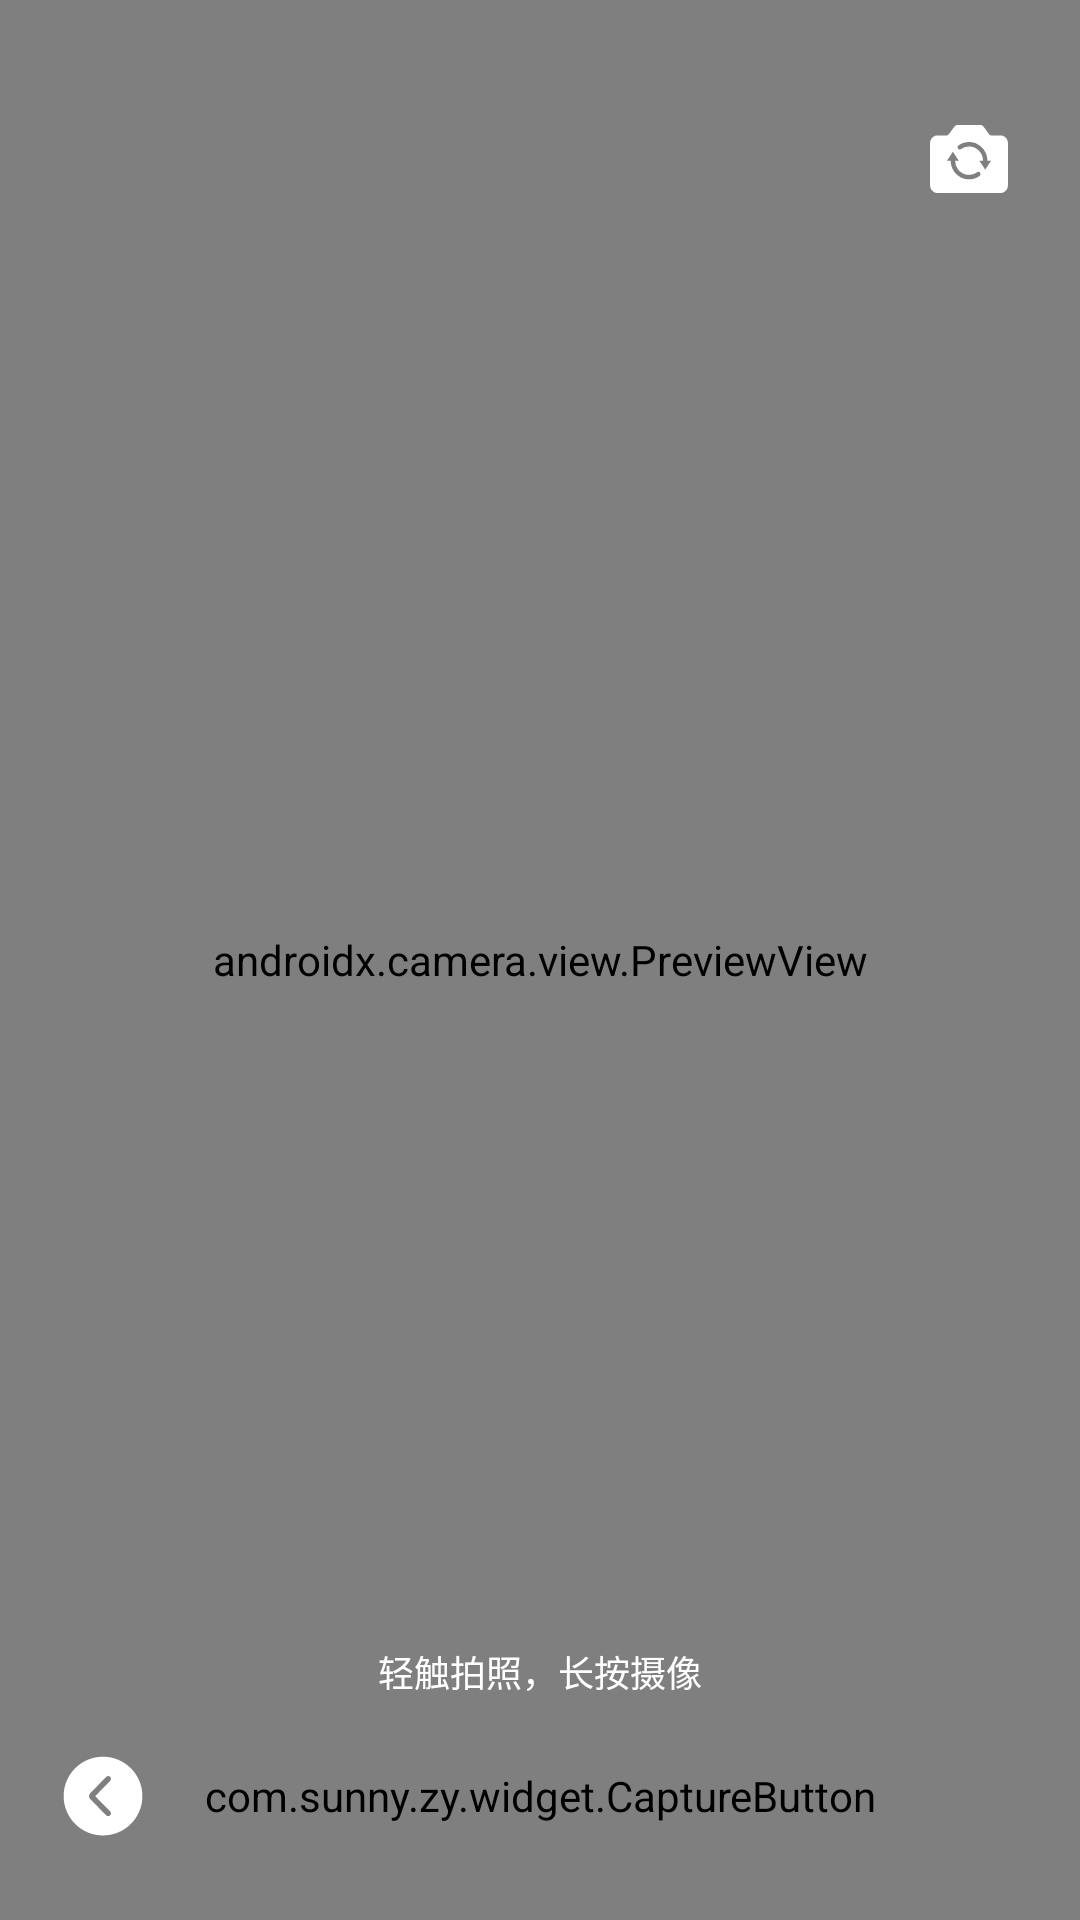

Named icons in this screenshot (1080x1920) and their centers, (x,y):
switch camera: (969,159)
